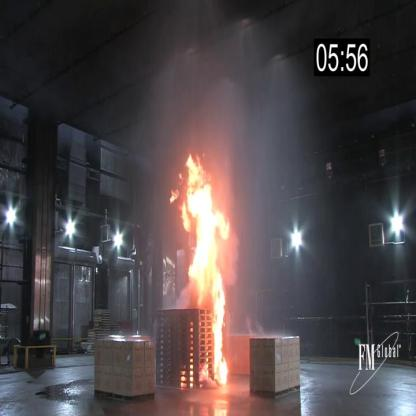fire: (176, 152, 234, 393)
